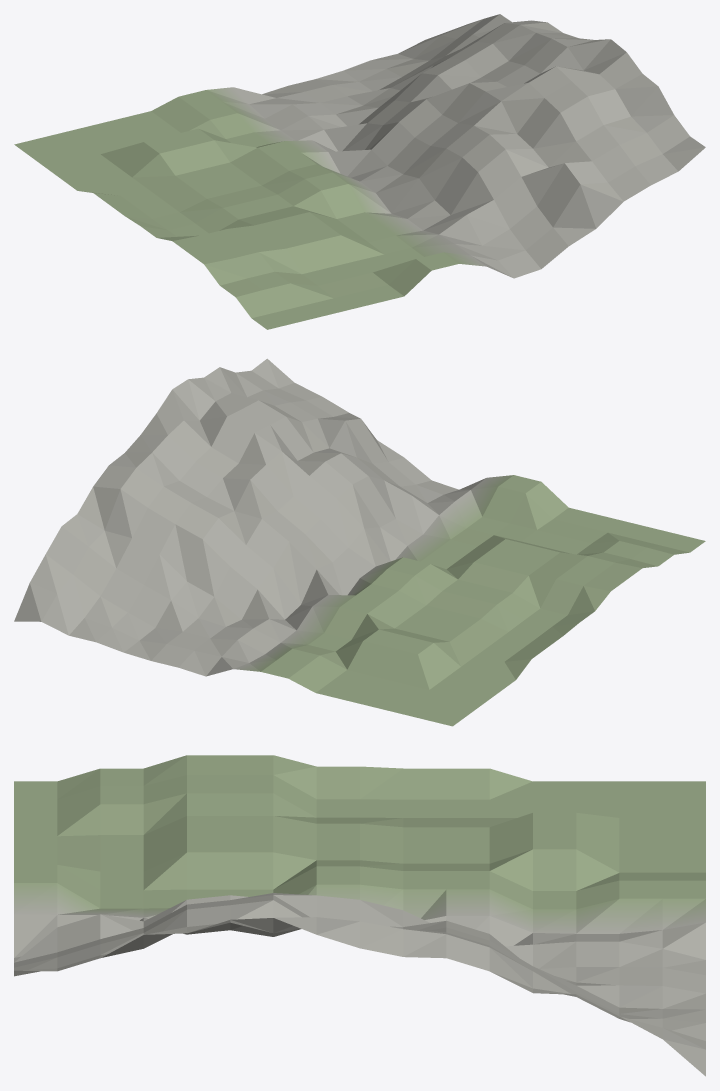
3 views of the same model, one above another, from view 1: azimuth 30°, elevation 25°; view 2: azimuth 150°, elevation 25°; view 3: azimuth 270°, elevation 25° (orthographic). The views are drawn at different scales.
Size of the model in its own units: 32 by 8.76 by 32.
